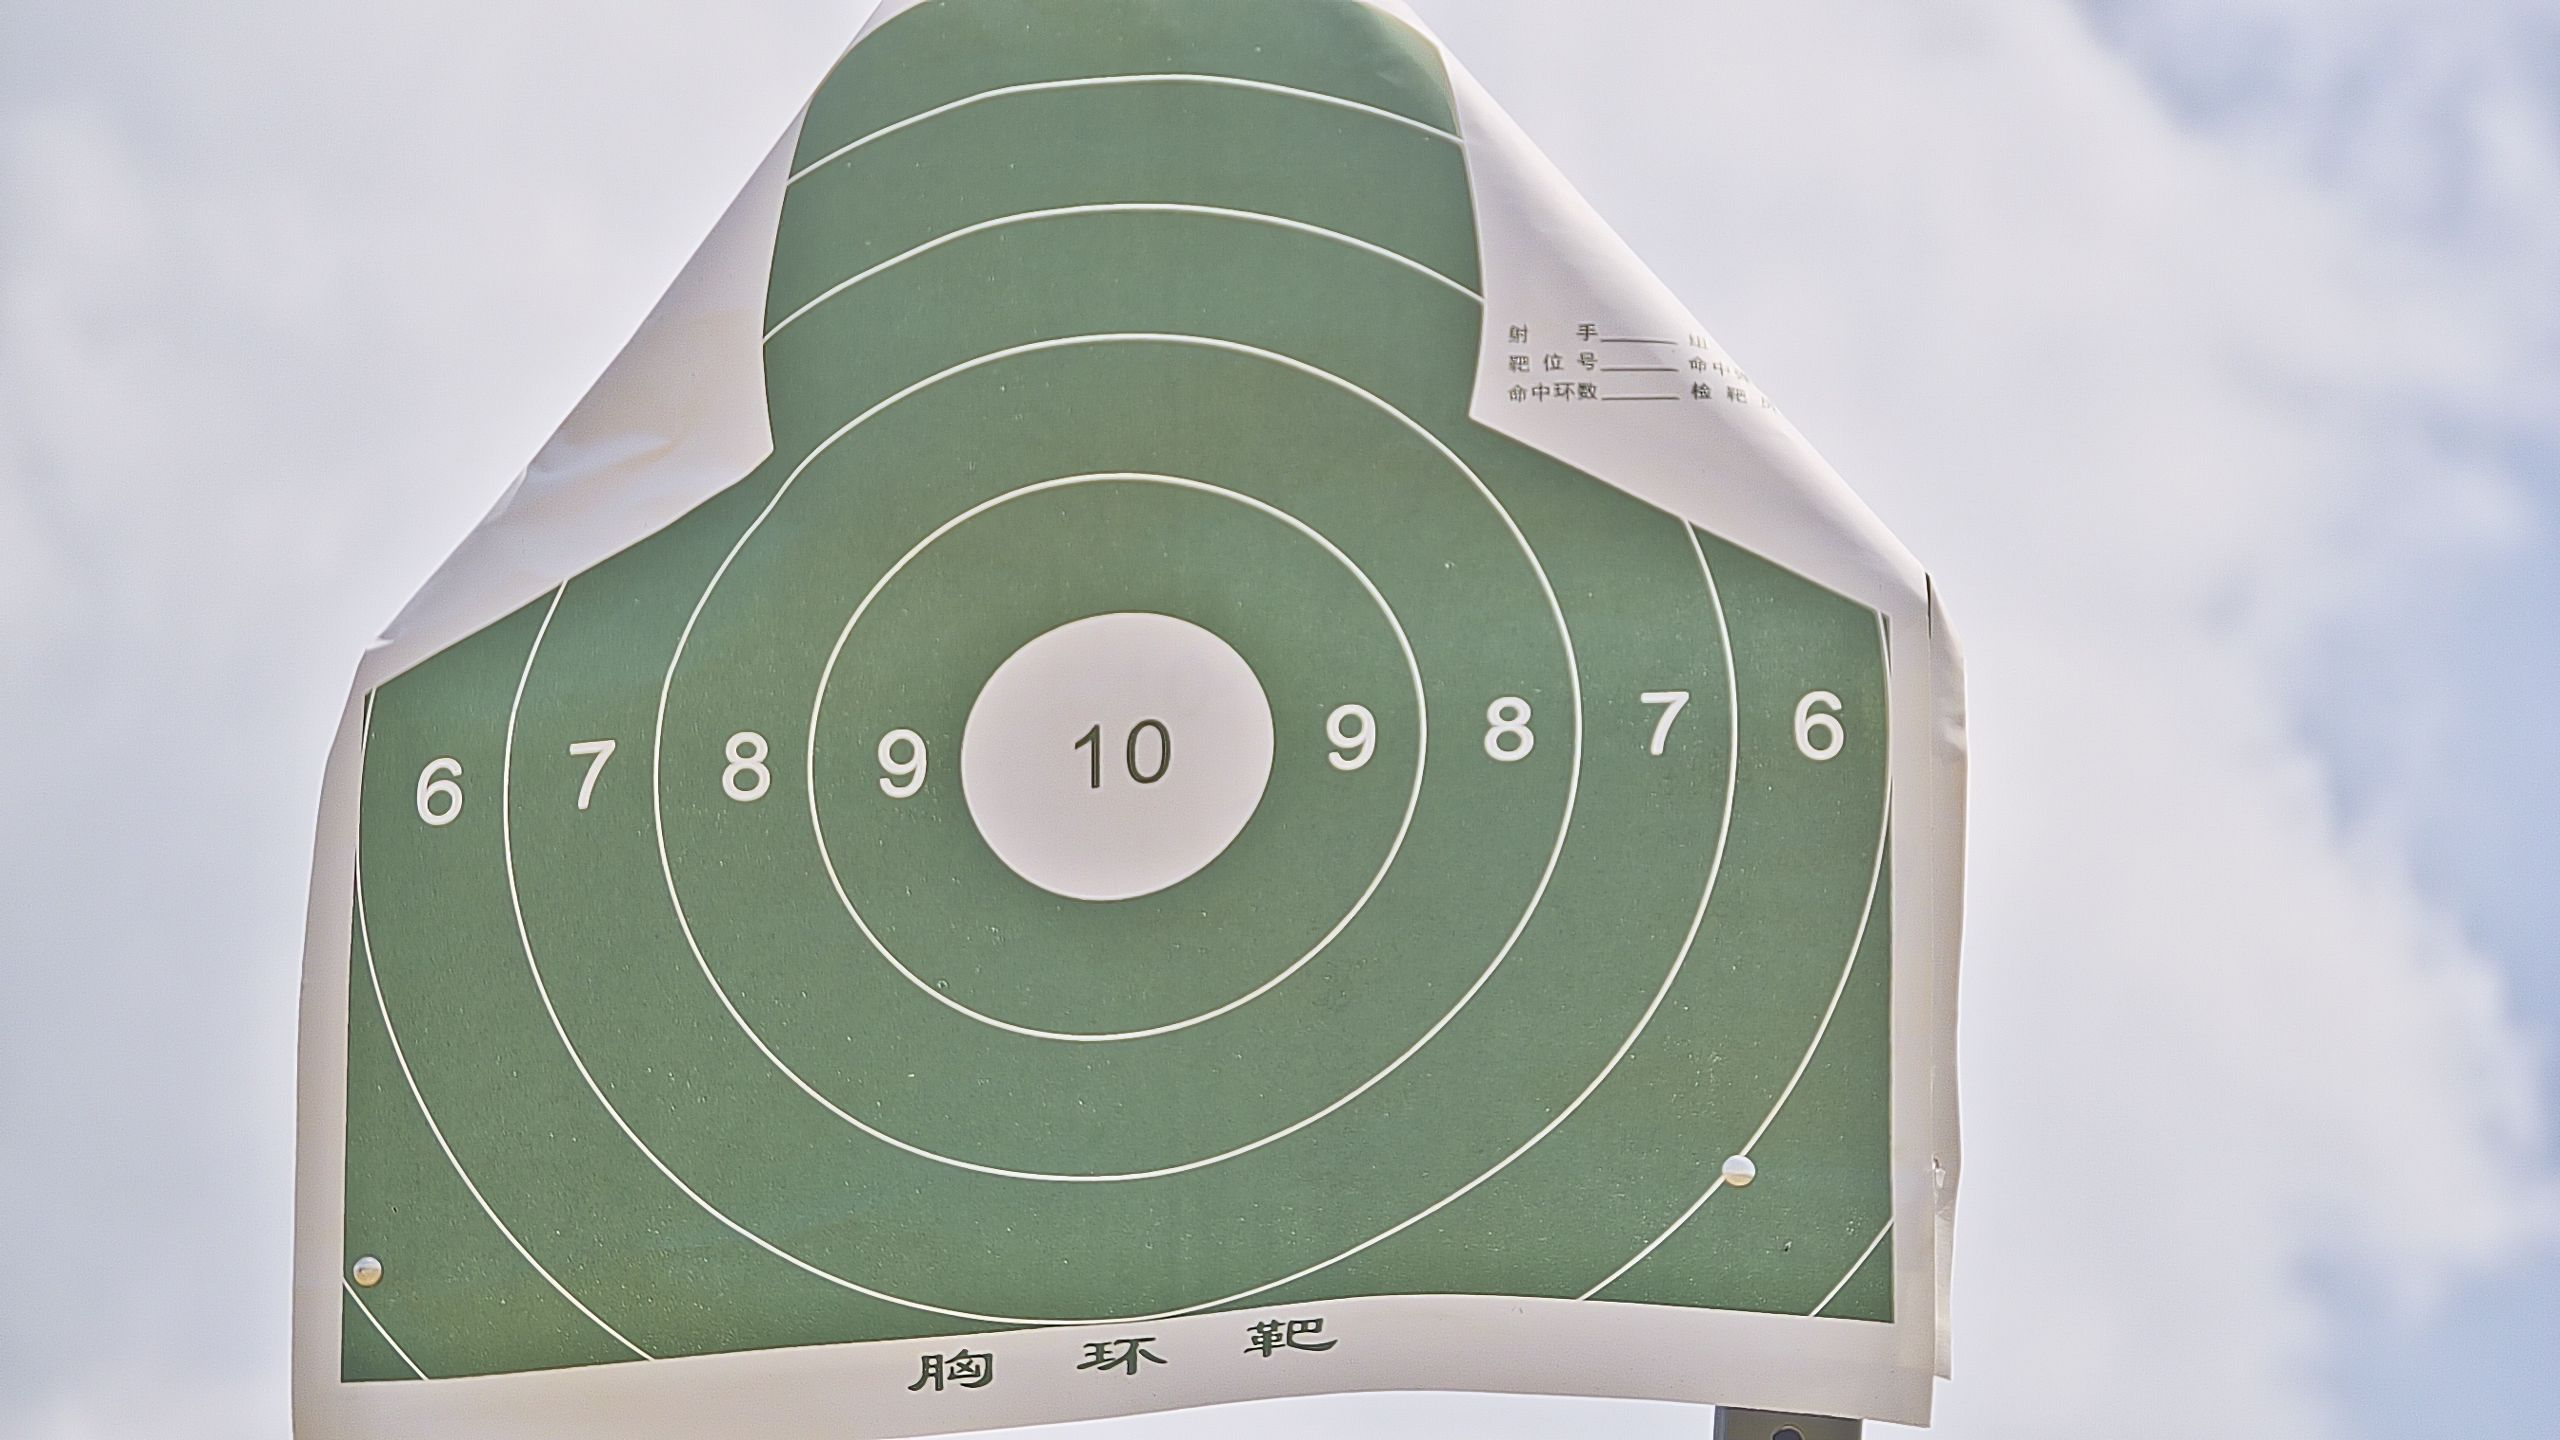kernel: (1109, 756, 1120, 761)
target: (346, 11, 1901, 1371)
ten: (958, 610, 1271, 905)
